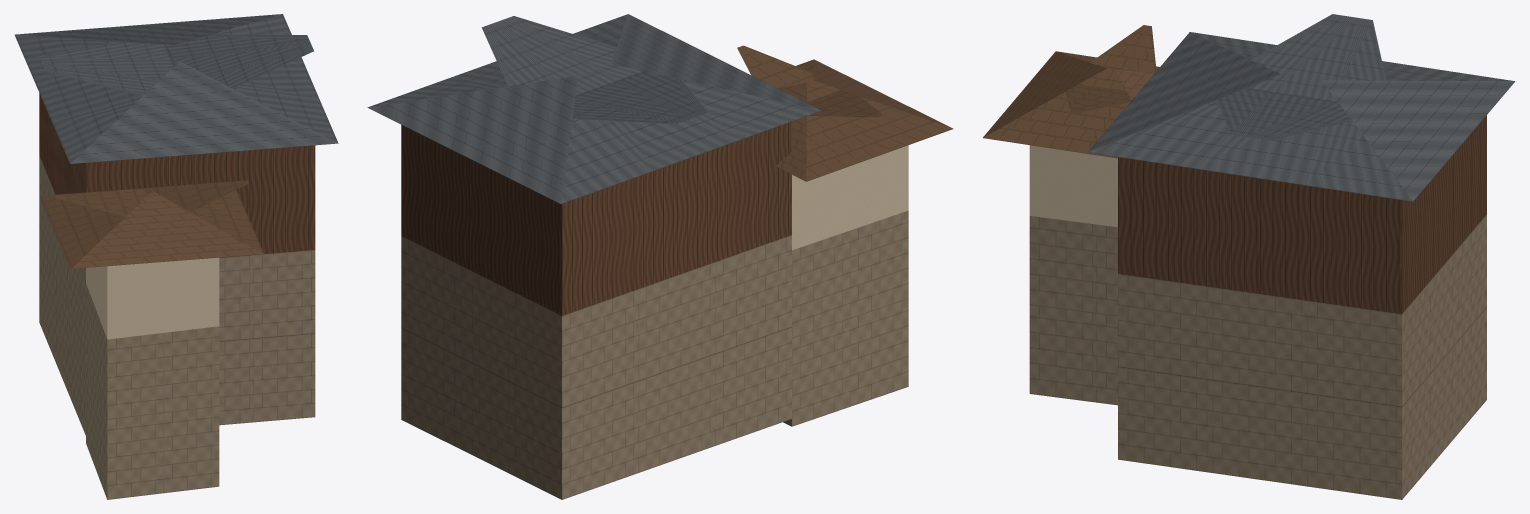
File: bld_c33_47_237.gltf
3 views of the same model, side by side, from view 1: azimuth 30°, elevation 25°; view 2: azimuth 150°, elevation 25°; view 3: azimuth 270°, elevation 25° (orthographic). The views are drawn at different scales.
Parts seen in each view (by area): view 1: bld_c33_47_237; view 2: bld_c33_47_237; view 3: bld_c33_47_237.
Boxes of the visible parts, x1,y1,x2,y2 form: bld_c33_47_237: (14,14,338,499); bld_c33_47_237: (367,14,953,499); bld_c33_47_237: (983,14,1514,499).
Bounding box in the file's own units: 10.96 × 9.1 × 12.22.
Materials: 5 (5 with a texture image).
